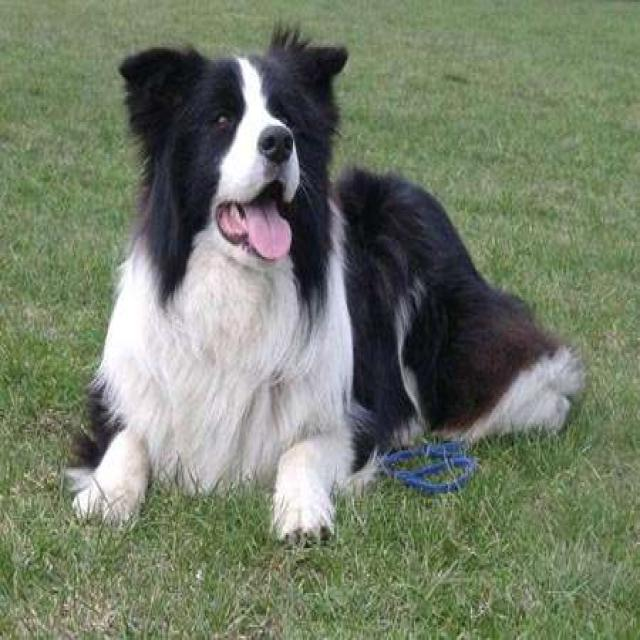BORDER_COLLIE: (46, 17, 604, 571)
